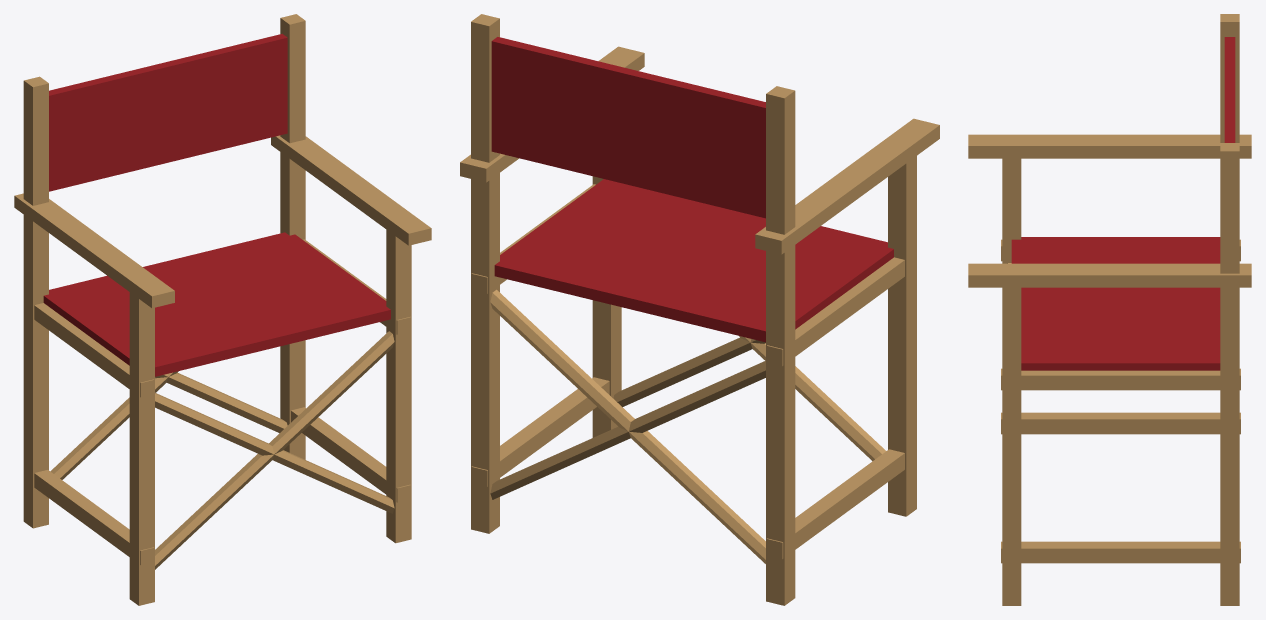
The model's file is director-chair.glb.
3 views of the same model, side by side, from view 1: azimuth 30°, elevation 25°; view 2: azimuth 150°, elevation 25°; view 3: azimuth 270°, elevation 25° (orthographic). The views are drawn at different scales.
Visible parts, largest first — view 1: canvas14, canvas15, wood1, wood0, wood5, wood6, wood2, wood11, wood7, wood10, wood4, wood9 (+3 smaller); view 2: canvas14, canvas15, wood1, wood6, wood0, wood13, wood2, wood12, wood4, wood9, wood3, wood5 (+3 smaller); view 3: canvas14, wood6, wood7, wood2, wood5, wood4, wood9, wood8, wood0, wood1, canvas15.
Boxes of the visible parts, box(x1,y1,x2,y2) form: canvas14: box(43, 232, 390, 376); canvas15: box(49, 33, 287, 191); wood1: box(23, 76, 48, 528); wood0: box(129, 292, 154, 605); wood5: box(386, 229, 411, 543); wood6: box(280, 14, 305, 459); wood2: box(14, 193, 174, 308); wood11: box(155, 331, 394, 569); wood7: box(271, 135, 431, 245); wood10: box(155, 393, 394, 513); wood4: box(34, 470, 154, 565); wood9: box(291, 407, 410, 502); canvas14: box(494, 179, 893, 342); canvas15: box(491, 37, 765, 218); wood1: box(766, 86, 795, 605); wood6: box(471, 14, 499, 533); wood0: box(888, 156, 916, 516); wood13: box(490, 289, 765, 563); wood2: box(755, 118, 939, 254); wood12: box(490, 360, 765, 499); wood4: box(766, 449, 904, 559); wood9: box(471, 377, 609, 486); wood3: box(766, 257, 904, 365); wood5: box(592, 176, 621, 437); canvas14: box(1011, 237, 1220, 370); wood6: box(1220, 143, 1239, 605); wood7: box(968, 263, 1251, 287); wood2: box(968, 134, 1251, 158); wood5: box(1002, 287, 1021, 605); wood4: box(1001, 412, 1240, 434); wood9: box(1001, 541, 1240, 563); wood8: box(1001, 368, 1240, 390); wood0: box(1002, 158, 1021, 263); wood1: box(1220, 14, 1239, 142); canvas15: box(1224, 37, 1235, 142).
Bounding box in the file's own units: 0.61 × 0.92 × 0.52.
